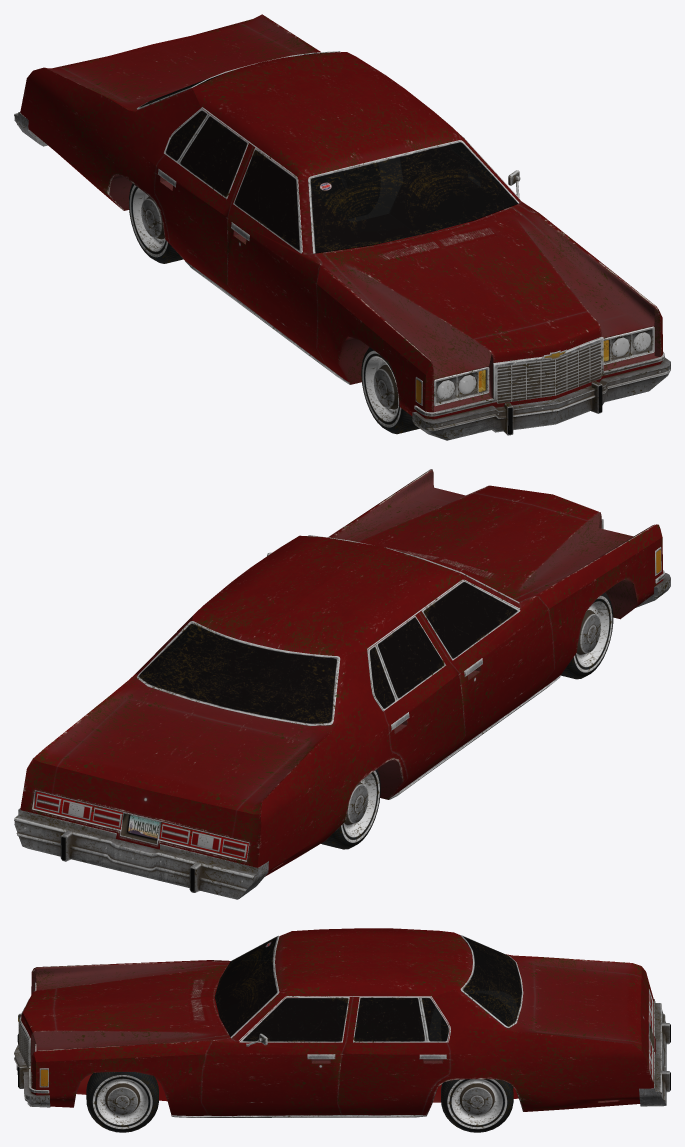
Rendered from 1975_chevrolet_impala.glb.
3 views of the same model, one above another, from view 1: azimuth 30°, elevation 25°; view 2: azimuth 150°, elevation 25°; view 3: azimuth 270°, elevation 25° (orthographic). The views are drawn at different scales.
Visible parts, largest first — view 1: textureEditorIsolateSelectSet (×2), car_Low4, Wind_shield_insert4, Head_bumper_Low2, Wind_passanger_insert_Low1, Wind_driver_insert_Low1, Radiator_grille_L1, Wheel_L10, Head_light_L2, Wheel_L9, Head_pad_L1, Head_light_L3; view 2: textureEditorIsolateSelectSet (×2), car_Low4, Wind_back_insert6, _Mesh2, Backlight_box_metal_L1, Wind_passanger_insert_Low1, Wind_driver_insert_Low1, Wheel_L10, Wheel_L9, Backlight_box_plastic_L1, car_Low6; view 3: textureEditorIsolateSelectSet (×2), car_Low4, Wind_passanger_insert_Low1, Wind_shield_insert4, Wind_driver_insert_Low1, Wheel_L12, Wind_back_insert6, Wheel_L6, _Mesh2, Head_bumper_Low2, Side_pad_Low2, Backlight_box_metal_L1 (+2 smaller).
Part boxes in pixels (bbox=[...]): textureEditorIsolateSelectSet (×2): bbox=[20, 14, 663, 419]; car_Low4: bbox=[233, 204, 660, 419]; Wind_shield_insert4: bbox=[308, 140, 519, 253]; Head_bumper_Low2: bbox=[412, 357, 670, 440]; Wind_passanger_insert_Low1: bbox=[164, 109, 248, 199]; Wind_driver_insert_Low1: bbox=[233, 147, 301, 253]; Radiator_grille_L1: bbox=[497, 341, 601, 403]; Wheel_L10: bbox=[361, 347, 419, 434]; Head_light_L2: bbox=[435, 328, 653, 405]; Wheel_L9: bbox=[129, 183, 183, 263]; Head_pad_L1: bbox=[414, 337, 664, 416]; Head_light_L3: bbox=[437, 332, 651, 399]; textureEditorIsolateSelectSet (×2): bbox=[20, 469, 663, 876]; car_Low4: bbox=[247, 485, 633, 855]; Wind_back_insert6: bbox=[137, 621, 340, 725]; _Mesh2: bbox=[14, 808, 268, 899]; Backlight_box_metal_L1: bbox=[32, 790, 249, 861]; Wind_passanger_insert_Low1: bbox=[368, 615, 445, 710]; Wind_driver_insert_Low1: bbox=[421, 580, 520, 660]; Wheel_L10: bbox=[561, 592, 613, 679]; Wheel_L9: bbox=[321, 769, 380, 849]; Backlight_box_plastic_L1: bbox=[34, 792, 248, 859]; car_Low6: bbox=[377, 759, 403, 799]; textureEditorIsolateSelectSet (×2): bbox=[31, 928, 655, 1116]; car_Low4: bbox=[21, 961, 518, 1102]; Wind_passanger_insert_Low1: bbox=[353, 997, 449, 1042]; Wind_shield_insert4: bbox=[214, 935, 279, 1038]; Wind_driver_insert_Low1: bbox=[239, 997, 349, 1042]; Wheel_L12: bbox=[86, 1072, 158, 1132]; Wind_back_insert6: bbox=[460, 935, 523, 1028]; Wheel_L6: bbox=[441, 1079, 513, 1132]; _Mesh2: bbox=[639, 999, 669, 1106]; Head_bumper_Low2: bbox=[14, 1008, 50, 1107]; Side_pad_Low2: bbox=[171, 1115, 426, 1117]; Backlight_box_metal_L1: bbox=[649, 989, 654, 1081].
Size of the model in its own units: 228 by 164 by 684.
3 materials, 3 textured.
